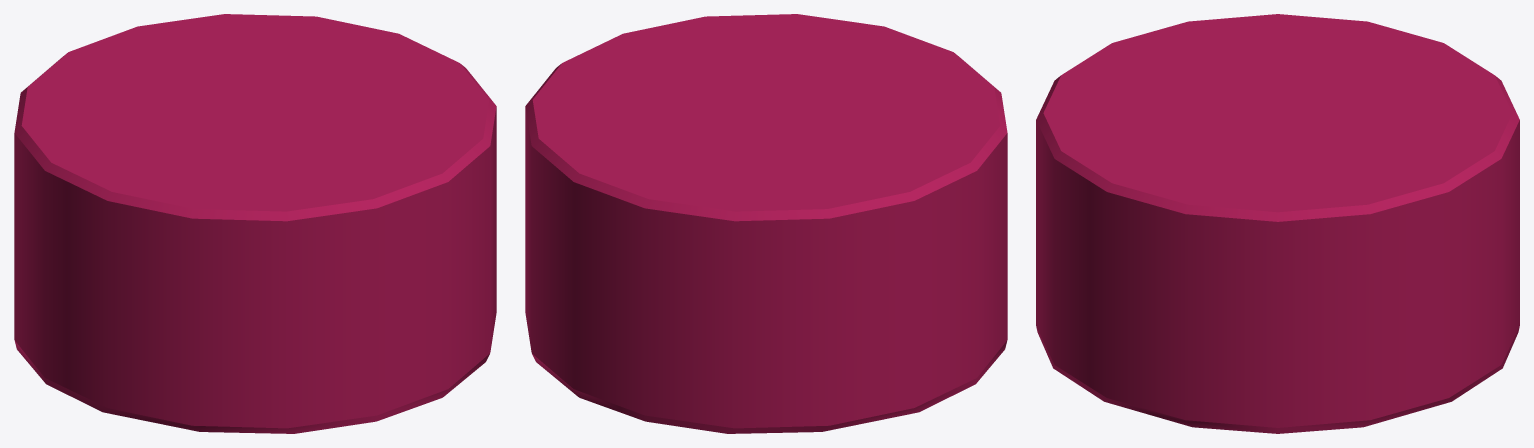
File: Part_D1_simple.FBX
3 views of the same model, side by side, from view 1: azimuth 30°, elevation 25°; view 2: azimuth 150°, elevation 25°; view 3: azimuth 270°, elevation 25° (orthographic).
Parts seen in each view (by area): view 1: Part_D1_simple; view 2: Part_D1_simple; view 3: Part_D1_simple.
Part boxes in pixels (<box>): Part_D1_simple: <box>14,14,496,433</box>; Part_D1_simple: <box>525,14,1007,433</box>; Part_D1_simple: <box>1036,14,1519,433</box>.
Size of the model in its own units: 200 by 100 by 200.
